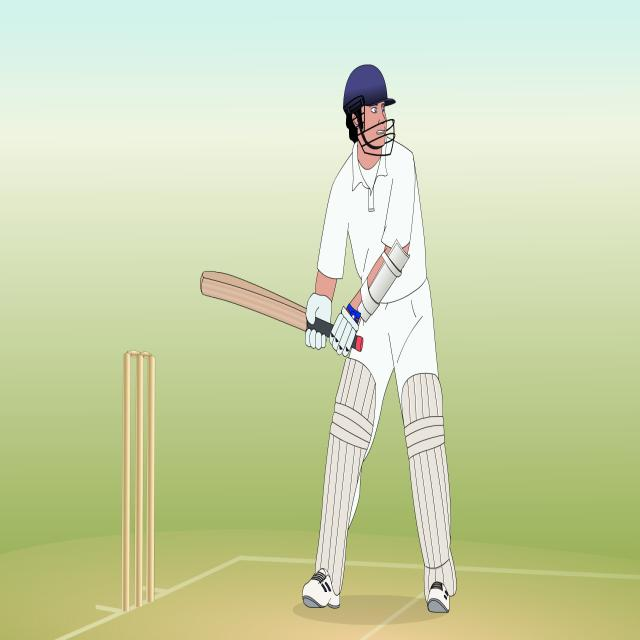stump: (119, 353, 158, 611)
